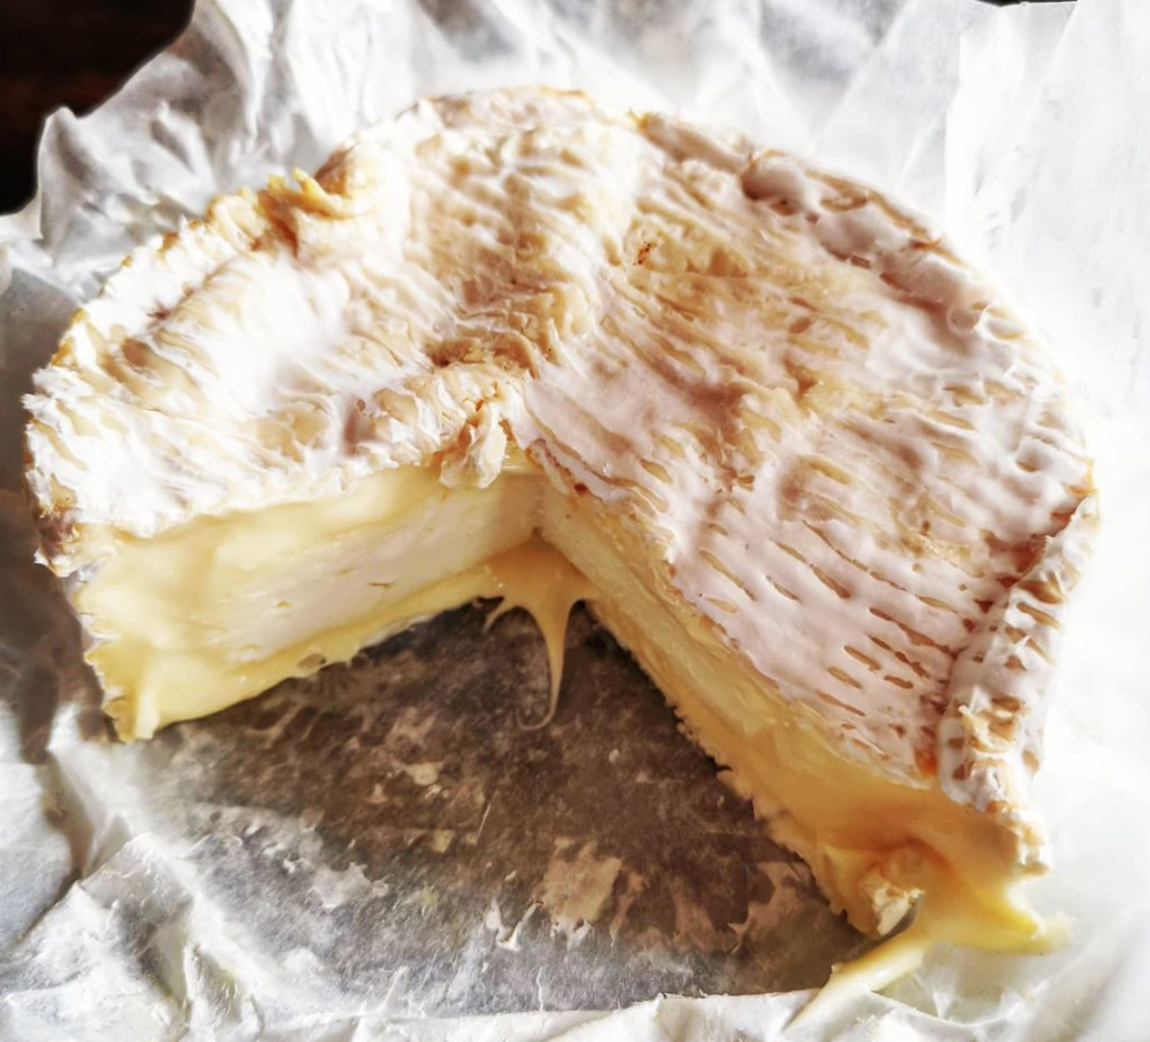camembert: (21, 83, 1107, 947)
